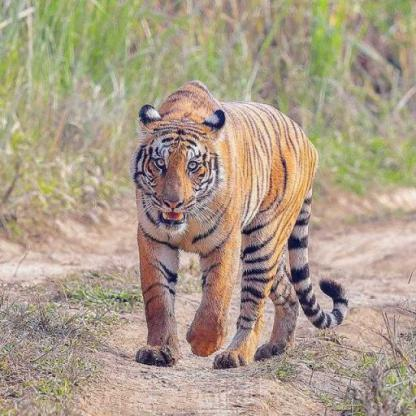Tiger: (109, 64, 356, 377)
